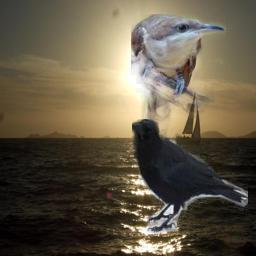Crow: (132, 119, 248, 233)
Cuckoo: (131, 14, 226, 144)
